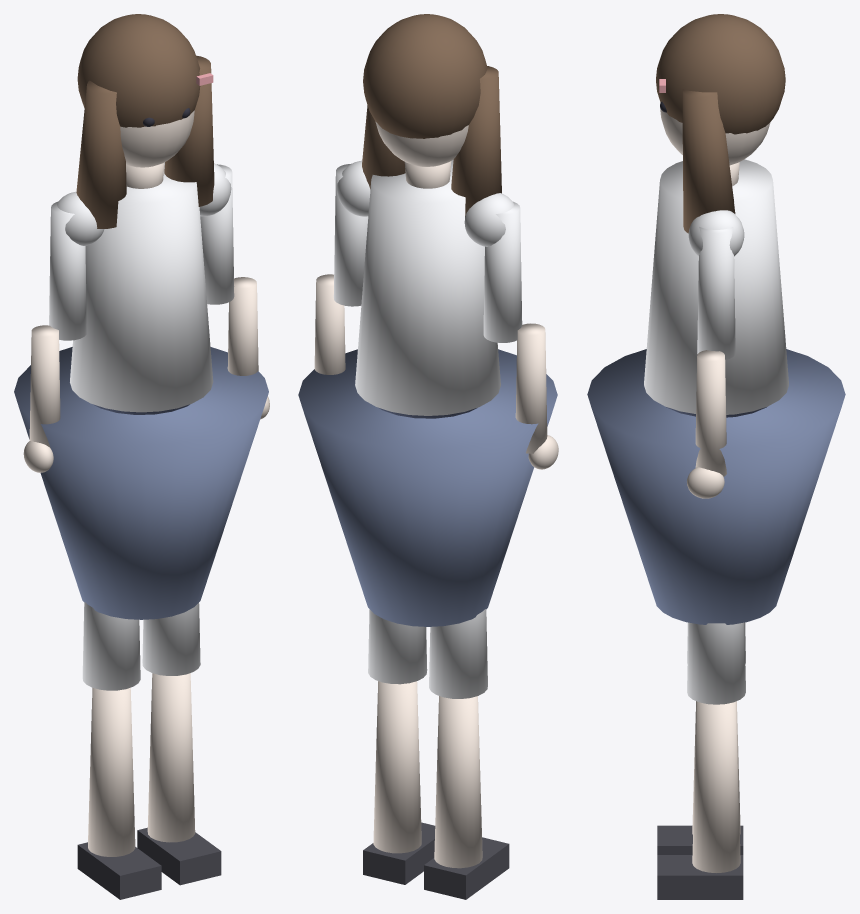
The model's file is bai_lusheng.glb.
3 views of the same model, side by side, from view 1: azimuth 30°, elevation 25°; view 2: azimuth 150°, elevation 25°; view 3: azimuth 270°, elevation 25° (orthographic).
Visible parts, largest first — view 1: Skirt, Torso, HairCap, ShinR, ShinL, BobL, ThighL, UpperArmL, ThighR, BobR, ForeArmL, FootL (+8 smaller); view 2: Skirt, Torso, HairCap, ShinR, ShinL, BobL, ThighL, UpperArmL, ThighR, ForeArmL, UpperArmR, FootL (+8 smaller); view 3: Skirt, Torso, HairCap, ShinR, BobR, ThighR, UpperArmR, ForeArmR, FootR, Head, ShoulderR, FootL (+1 smaller).
Part boxes in pixels (x1,y1,x2,y2): Skirt: [14, 347, 268, 619]; Torso: [70, 162, 213, 412]; HairCap: [77, 14, 200, 127]; ShinR: [147, 673, 195, 842]; ShinL: [88, 687, 135, 856]; BobL: [76, 80, 126, 228]; ThighL: [82, 602, 140, 690]; UpperArmL: [49, 201, 86, 340]; ThighR: [142, 603, 200, 675]; BobR: [164, 55, 214, 206]; ForeArmL: [29, 325, 60, 448]; FootL: [77, 842, 161, 899]; Skirt: [298, 349, 557, 626]; Torso: [355, 160, 500, 415]; HairCap: [363, 14, 487, 138]; ShinR: [373, 681, 421, 853]; ShinL: [434, 696, 482, 868]; BobL: [451, 66, 501, 216]; ThighL: [429, 609, 487, 698]; UpperArmL: [483, 201, 522, 342]; ThighR: [368, 609, 427, 684]; ForeArmL: [515, 323, 547, 453]; UpperArmR: [333, 163, 368, 306]; FootL: [424, 837, 509, 899]; Skirt: [587, 349, 845, 624]; Torso: [644, 159, 788, 414]; HairCap: [656, 14, 785, 134]; ShinR: [692, 701, 740, 872]; BobR: [682, 89, 735, 233]; ThighR: [687, 622, 745, 704]; UpperArmR: [697, 227, 735, 359]; ForeArmR: [695, 350, 726, 476]; FootR: [657, 855, 743, 899]; Head: [660, 102, 770, 165]; ShoulderR: [688, 210, 744, 256]; FootL: [657, 825, 743, 854].
Bounding box in the file's own units: 0.5212 × 1.75 × 0.48.
